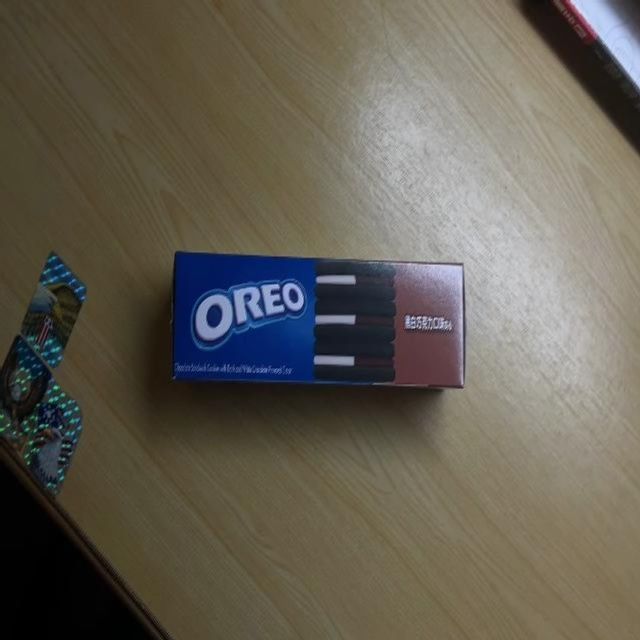Oreo: (168, 242, 464, 390)
